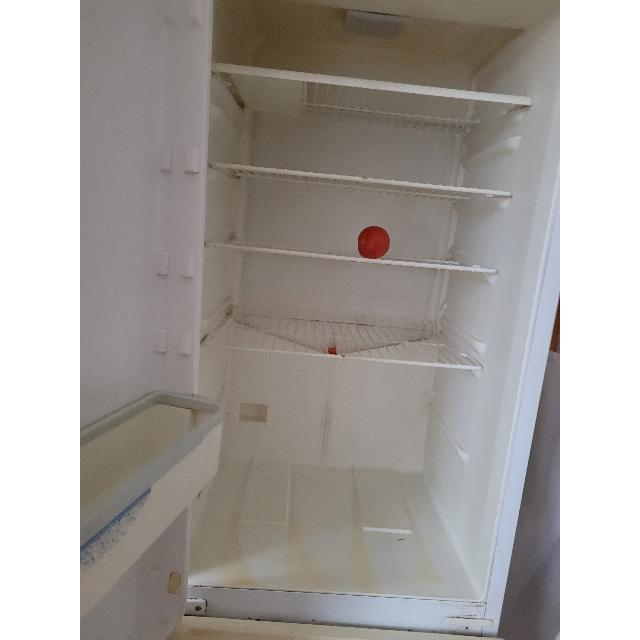tomato: (356, 225, 392, 261)
